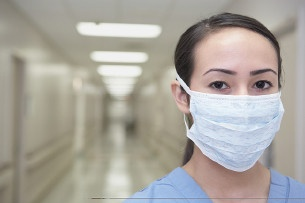Mask: (182, 57, 297, 173)
